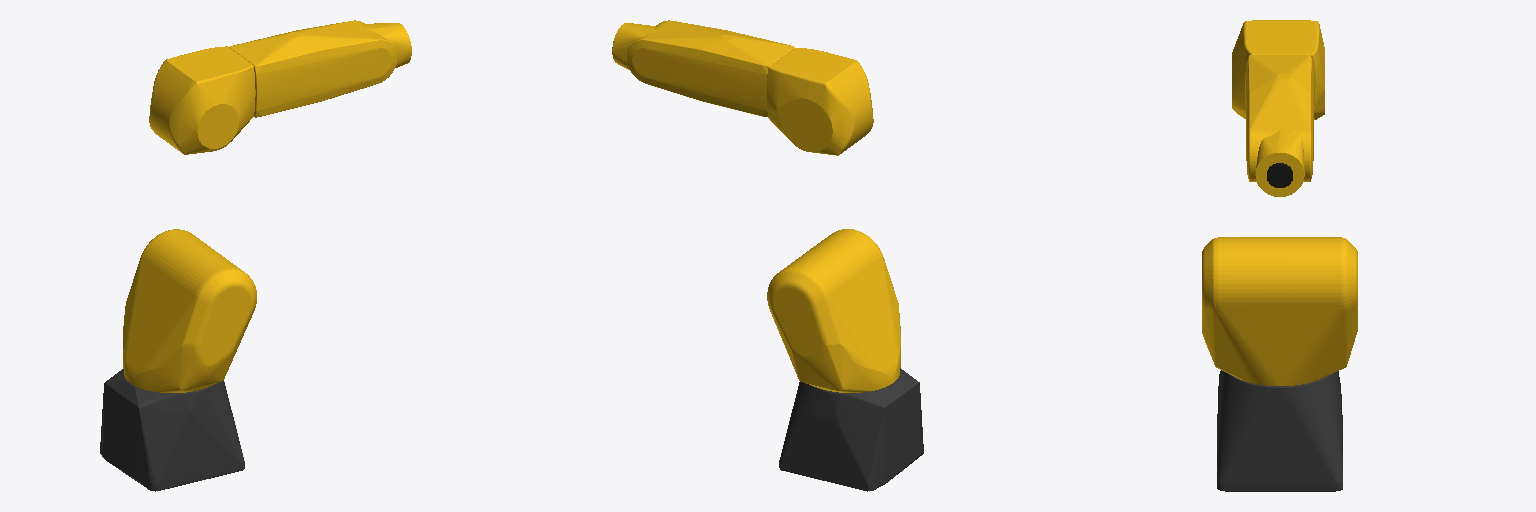
The robot description file, URDF, robot "fanuc_lrmate200id":
<?xml version="1.0" ?>
<!-- =================================================================================== -->
<!-- |    This document was autogenerated by xacro from lrmate200id_and_c2_only.xacro  | -->
<!-- |    EDITING THIS FILE BY HAND IS NOT RECOMMENDED                                 | -->
<!-- =================================================================================== -->
<robot name="fanuc_lrmate200id" xmlns:xacro="http://ros.org/wiki/xacro">
  <!-- The 'pi' constant in this file is DEPRECATED. Use the '(math.)pi'
       constant supported by Indigo/Jade/Kinetic xacro instead.

       This file is kept for bw-compatibility, but will be removed in
       Kinetic.
  -->
  <link name="fanuc_base_link">
    <visual>
      <origin rpy="0 0 0" xyz="0 0 0"/>
      <geometry>
        <mesh filename="package://fanuc_lrmate200id_support/meshes/lrmate200id/visual/base_link.stl" scale="1.0 1.0 1.0"/>
      </geometry>
      <material name="">
        <color rgba="0.278431372549 0.278431372549 0.278431372549 1.0"/>
      </material>
    </visual>
    <collision>
      <origin rpy="0 0 0" xyz="0 0 0"/>
      <geometry>
        <mesh filename="package://fanuc_lrmate200id_support/meshes/lrmate200id/visual/base_link.stl" scale="1.0 1.0 1.0"/>
      </geometry>
    </collision>
  </link>
  <link name="fanuc_link_1">
    <inertial>
      <mass value="4"/>
      <inertia ixx="0.0322667" ixy="0.0" ixz="0.0" iyy="0.0226667" iyz="0.0" izz="0.0226667"/>
    </inertial>
    <visual>
      <origin rpy="0 0 0" xyz="0 0 0"/>
      <geometry>
        <mesh filename="package://fanuc_lrmate200id_support/meshes/lrmate200id/visual/link_1.stl" scale="1.0 1.0 1.0"/>
      </geometry>
      <material name="">
        <color rgba="0.96 0.76 0.13 1.0"/>
      </material>
    </visual>
    <collision>
      <origin rpy="0 0 0" xyz="0 0 0"/>
      <geometry>
        <mesh filename="package://fanuc_lrmate200id_support/meshes/lrmate200id/visual/link_1.stl" scale="1.0 1.0 1.0"/>
      </geometry>
    </collision>
  </link>
  <link name="fanuc_link_2">
    <inertial>
      <mass value="5"/>
      <inertia ixx="0.0973333" ixy="0.0" ixz="0.0" iyy="0.0888333" iyz="0.0" izz="0.0248333"/>
    </inertial>
    <visual>
      <origin rpy="0 0 0" xyz="0 0 0"/>
      <geometry>
        <mesh filename="package://fanuc_lrmate200id_support/meshes/lrmate200id/visual/link_2.stl" scale="1.0 1.0 1.0"/>
      </geometry>
      <material name="">
        <color rgba="0.96 0.76 0.13 1.0"/>
      </material>
    </visual>
    <collision>
      <origin rpy="0 0 0" xyz="0 0 0"/>
      <geometry>
        <mesh filename="package://fanuc_lrmate200id_support/meshes/lrmate200id/visual/link_2.stl" scale="1.0 1.0 1.0"/>
      </geometry>
    </collision>
  </link>
  <link name="fanuc_link_3">
    <inertial>
      <mass value="4"/>
      <inertia ixx="0.0104333" ixy="0.0" ixz="0.0" iyy="0.0121667" iyz="0.0" izz="0.0113333"/>
    </inertial>
    <visual>
      <origin rpy="0 0 0" xyz="0 0 0"/>
      <geometry>
        <mesh filename="package://fanuc_lrmate200id_support/meshes/lrmate200id/visual/link_3.stl" scale="1.0 1.0 1.0"/>
      </geometry>
      <material name="">
        <color rgba="0.96 0.76 0.13 1.0"/>
      </material>
    </visual>
    <collision>
      <origin rpy="0 0 0" xyz="0 0 0"/>
      <geometry>
        <mesh filename="package://fanuc_lrmate200id_support/meshes/lrmate200id/visual/link_3.stl" scale="1.0 1.0 1.0"/>
      </geometry>
    </collision>
  </link>
  <link name="fanuc_link_4">
    <inertial>
      <mass value="5"/>
      <inertia ixx="0.00833333" ixy="0.0" ixz="0.0" iyy="0.0368333" iyz="0.0" izz="0.0368333"/>
    </inertial>
    <visual>
      <origin rpy="0 0 0" xyz="0 0 0"/>
      <geometry>
        <mesh filename="package://fanuc_lrmate200id_support/meshes/lrmate200id/visual/link_4.stl" scale="1.0 1.0 1.0"/>
      </geometry>
      <material name="">
        <color rgba="0.96 0.76 0.13 1.0"/>
      </material>
    </visual>
    <collision>
      <origin rpy="0 0 0" xyz="0 0 0"/>
      <geometry>
        <mesh filename="package://fanuc_lrmate200id_support/meshes/lrmate200id/visual/link_4.stl" scale="1.0 1.0 1.0"/>
      </geometry>
    </collision>
  </link>
  <link name="fanuc_link_5">
    <inertial>
      <mass value="1.5"/>
      <inertia ixx="0.0018125" ixy="0.0" ixz="0.0" iyy="0.0023125" iyz="0.0" izz="0.002525"/>
    </inertial>
    <visual>
      <origin rpy="0 0 0" xyz="0 0 0"/>
      <geometry>
        <mesh filename="package://fanuc_lrmate200id_support/meshes/lrmate200id/visual/link_5.stl" scale="1.0 1.0 1.0"/>
      </geometry>
      <material name="">
        <color rgba="0.96 0.76 0.13 1.0"/>
      </material>
    </visual>
    <collision>
      <origin rpy="0 0 0" xyz="0 0 0"/>
      <geometry>
        <mesh filename="package://fanuc_lrmate200id_support/meshes/lrmate200id/visual/link_5.stl" scale="1.0 1.0 1.0"/>
      </geometry>
    </collision>
  </link>
  <link name="fanuc_link_6">
    <inertial>
      <mass value="0.25"/>
      <inertia ixx="6.66666e-05" ixy="0.0" ixz="0.0" iyy="3.54167e-05" iyz="0.0" izz="3.54167e-05"/>
    </inertial>
    <visual>
      <origin rpy="0 0 0" xyz="0 0 0"/>
      <geometry>
        <mesh filename="package://fanuc_lrmate200id_support/meshes/lrmate200id/visual/link_6.stl" scale="1.0 1.0 1.0"/>
      </geometry>
      <material name="">
        <color rgba="0.15 0.15 0.15 1.0"/>
      </material>
    </visual>
    <collision>
      <origin rpy="0 0 0" xyz="0 0 0"/>
      <geometry>
        <mesh filename="package://fanuc_lrmate200id_support/meshes/lrmate200id/visual/link_6.stl" scale="1.0 1.0 1.0"/>
      </geometry>
    </collision>
  </link>
  <!--   <link name="${prefix}tool0" /> -->
  <joint name="fanuc_joint_1" type="revolute">
    <origin rpy="0 0 0.0" xyz="0 0 0.33"/>
    <!-- <origin xyz="0 0 0.330" rpy="0 0 0" />-->
    <parent link="fanuc_base_link"/>
    <child link="fanuc_link_1"/>
    <axis xyz="0 0 1"/>
    <limit effort="0" lower="-2.965" upper="2.965" velocity="7.85"/>
  </joint>
  <joint name="fanuc_joint_2" type="revolute">
    <origin rpy="0 0 0" xyz="0.050 0 0"/>
    <parent link="fanuc_link_1"/>
    <child link="fanuc_link_2"/>
    <axis xyz="0 1 0"/>
    <limit effort="0" lower="-1.745329" upper="2.530727" velocity="6.63"/>
  </joint>
  <joint name="fanuc_joint_3" type="revolute">
    <origin rpy="0 0 0" xyz="0 0 0.330"/>
    <parent link="fanuc_link_2"/>
    <child link="fanuc_link_3"/>
    <axis xyz="0 -1 0"/>
    <limit effort="0" lower="-2.450966" upper="4.886922" velocity="9.08"/>
  </joint>
  <joint name="fanuc_joint_4" type="revolute">
    <origin rpy="0 0 0" xyz="0 0 0.035"/>
    <parent link="fanuc_link_3"/>
    <child link="fanuc_link_4"/>
    <axis xyz="-1 0 0"/>
    <limit effort="0" lower="-3.315" upper="3.315" velocity="9.6"/>
  </joint>
  <joint name="fanuc_joint_5" type="revolute">
    <origin rpy="0 0 0" xyz="0.335 0 0"/>
    <parent link="fanuc_link_4"/>
    <child link="fanuc_link_5"/>
    <axis xyz="0 -1 0"/>
    <limit effort="0" lower="-2.18" upper="2.18" velocity="9.51"/>
  </joint>
  <joint name="fanuc_joint_6" type="revolute">
    <origin rpy="0 0 0" xyz="0.080 0 0"/>
    <parent link="fanuc_link_5"/>
    <child link="fanuc_link_6"/>
    <axis xyz="-1 0 0"/>
    <limit effort="0" lower="-6.285" upper="6.285" velocity="17.45"/>
  </joint>
  <gazebo reference="fanuc_base_link">
    <material>Gazebo/Grey</material>
  </gazebo>
  <gazebo reference="fanuc_link_1">
    <material>Gazebo/Yellow</material>
  </gazebo>
  <gazebo reference="fanuc_link_2">
    <material>Gazebo/Yellow</material>
  </gazebo>
  <gazebo reference="fanuc_link_3">
    <material>Gazebo/Yellow</material>
  </gazebo>
  <gazebo reference="fanuc_link_4">
    <material>Gazebo/Yellow</material>
  </gazebo>
  <gazebo reference="fanuc_link_5">
    <material>Gazebo/Yellow</material>
  </gazebo>
  <gazebo reference="fanuc_link_6">
    <material>Gazebo/Yellow</material>
  </gazebo>
   <!--[ERROR] [1474736838.974400369]: joint 'fanuc_joint_6-tool0' is not unique.-->
  <!-- First Robot -->
  <!-- ROS base_link to Fanuc World Coordinates transform -->
 
</robot>

--- Facts derived from the render (not from the file) ---
3 views of the same robot in one strip: view 1: azimuth 30°, elevation 25°; view 2: azimuth 150°, elevation 25°; view 3: azimuth 270°, elevation 25° (orthographic).
Model fanuc_lrmate200id with 7 links and 6 joints (6 revolute), rooted at fanuc_base_link, posed all joints at 0.
Visible links, largest first — view 1: fanuc_link_1, fanuc_base_link, fanuc_link_4, fanuc_link_3, fanuc_link_5; view 2: fanuc_link_1, fanuc_base_link, fanuc_link_4, fanuc_link_3, fanuc_link_5; view 3: fanuc_link_1, fanuc_base_link, fanuc_link_4, fanuc_link_3, fanuc_link_5, fanuc_link_6.
Boxes of the visible links, x1,y1,x2,y2 form: fanuc_link_1: (123, 229, 256, 392); fanuc_base_link: (100, 369, 244, 491); fanuc_link_4: (229, 20, 397, 117); fanuc_link_3: (149, 46, 255, 154); fanuc_link_5: (362, 23, 411, 67); fanuc_link_1: (767, 229, 900, 392); fanuc_base_link: (779, 368, 923, 491); fanuc_link_4: (627, 20, 794, 116); fanuc_link_3: (767, 48, 873, 155); fanuc_link_5: (612, 23, 656, 69); fanuc_link_1: (1202, 237, 1357, 385); fanuc_base_link: (1217, 370, 1342, 491); fanuc_link_4: (1245, 55, 1314, 181); fanuc_link_3: (1232, 20, 1324, 119); fanuc_link_5: (1255, 129, 1304, 196); fanuc_link_6: (1267, 163, 1292, 187).
Bounding box of the posed robot: 0.568 × 0.235 × 0.7589 m (x, y, z).
6 mesh visuals loaded from 7 distinct referenced files (6 binary STL); not drawn: 1 (reference not matched to a file when rendering).
